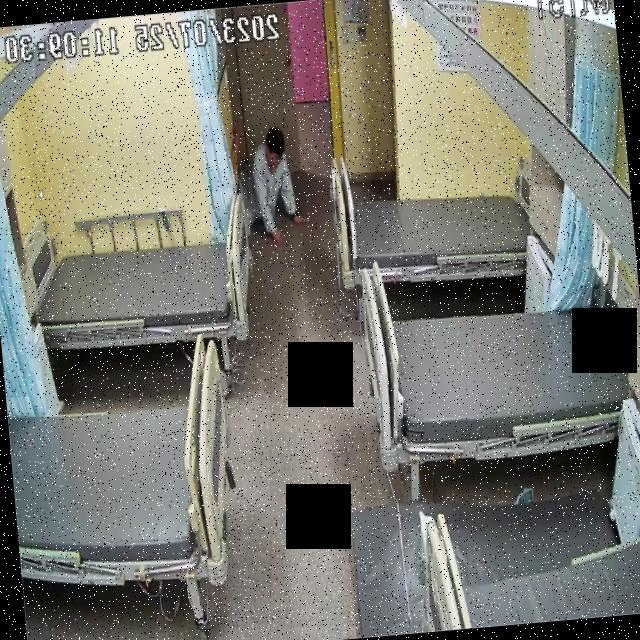bed: (1, 333, 242, 596), (362, 291, 638, 466), (16, 219, 259, 358), (334, 174, 532, 288)
fall: (230, 121, 301, 242)
patient: (231, 122, 302, 244)
